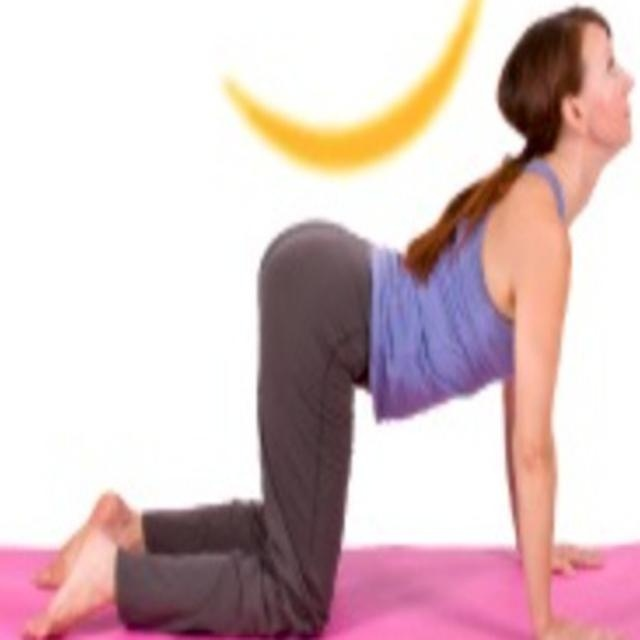Cow_Pose: (20, 9, 634, 635)
